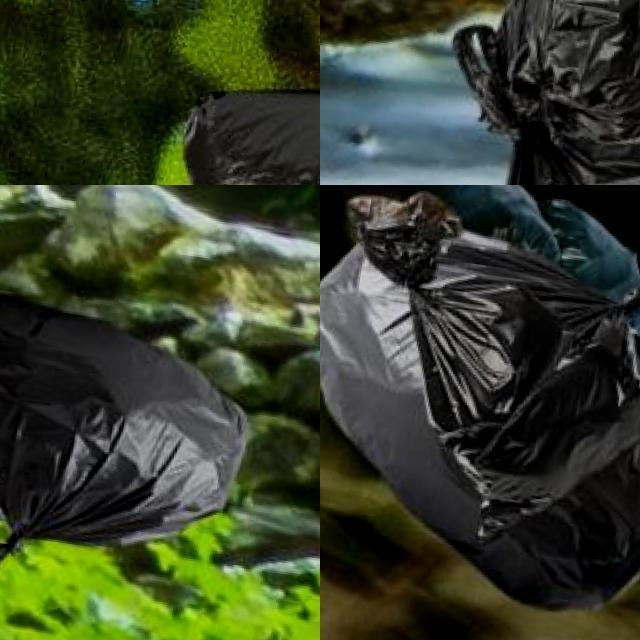waste: (320, 249, 640, 624), (332, 212, 640, 573), (0, 281, 268, 613), (458, 0, 640, 185), (172, 63, 320, 185)
